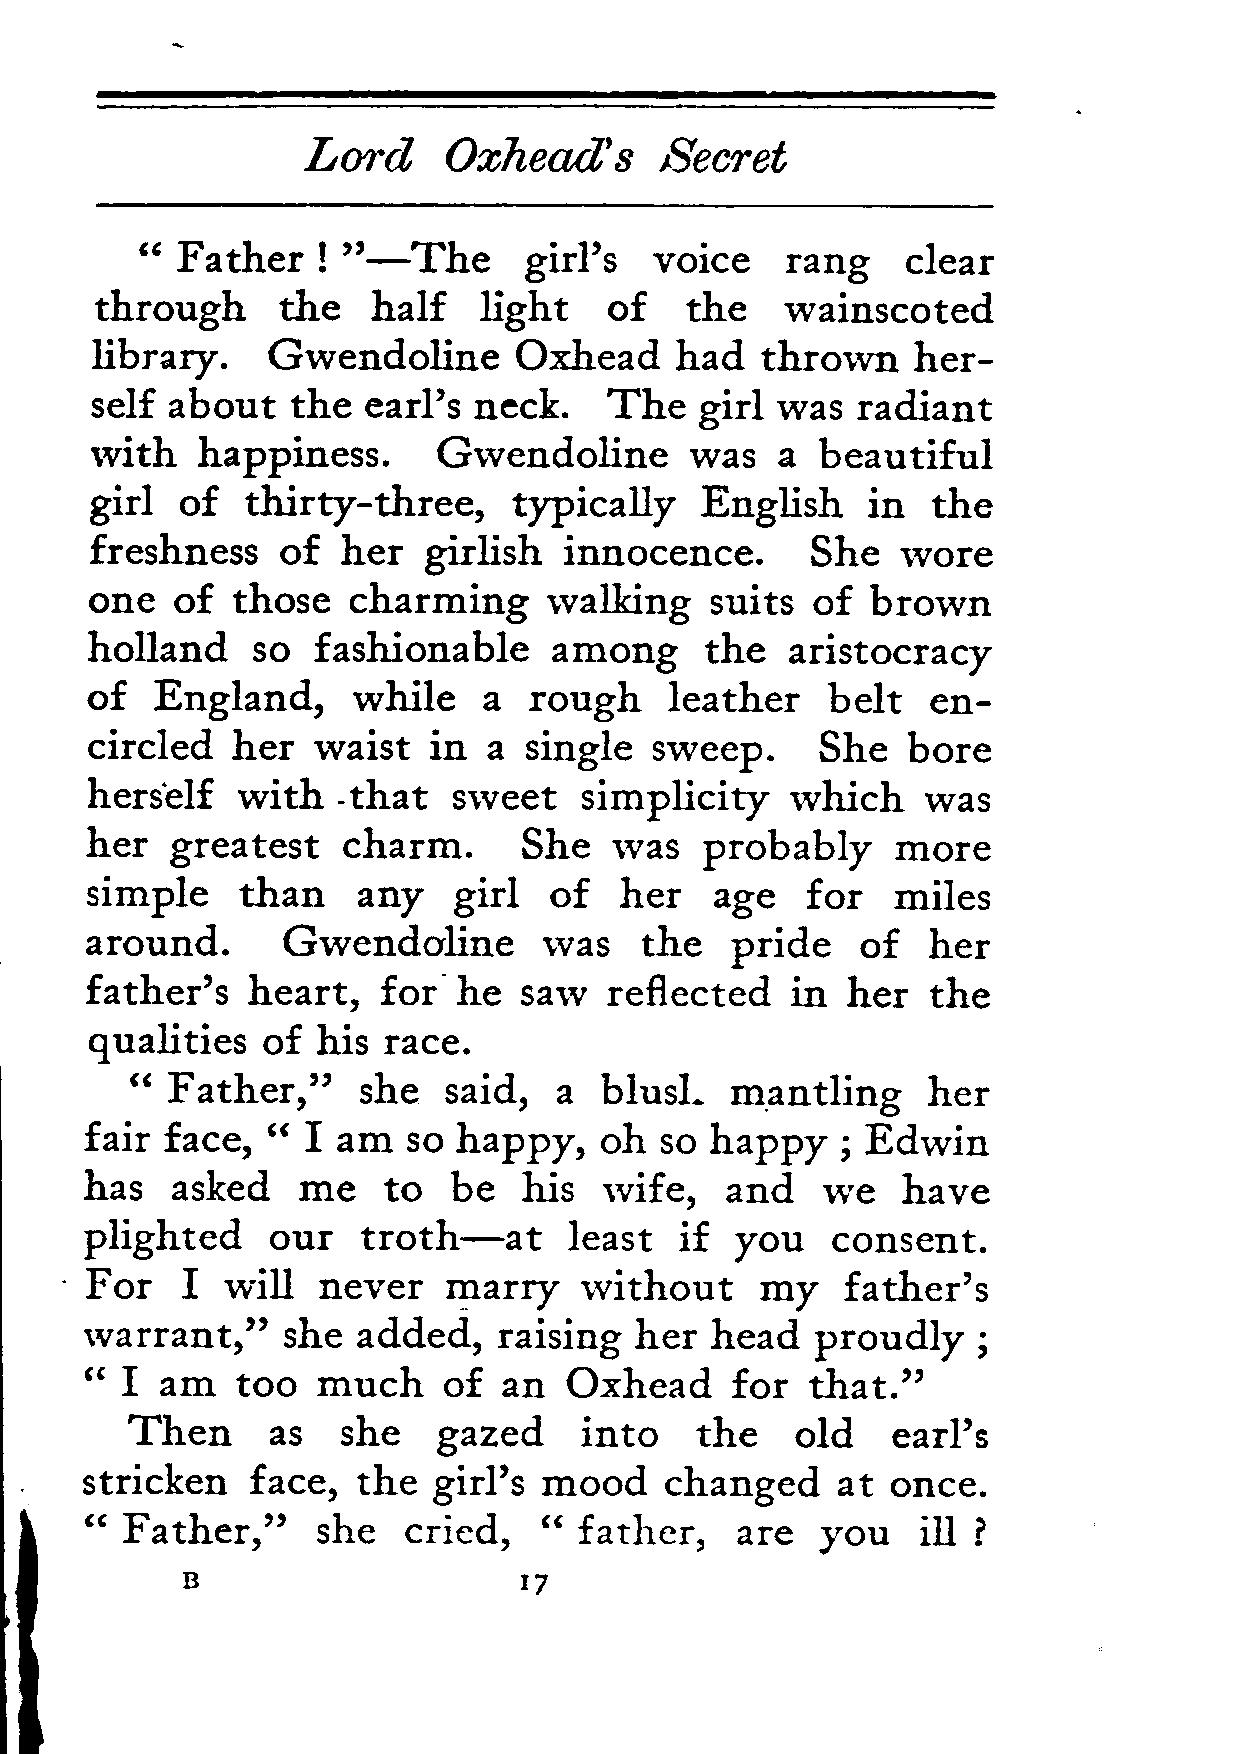chapter: (297, 123, 789, 181)
content: (76, 234, 996, 1555)
content_pagenumber: (509, 1567, 554, 1601)
